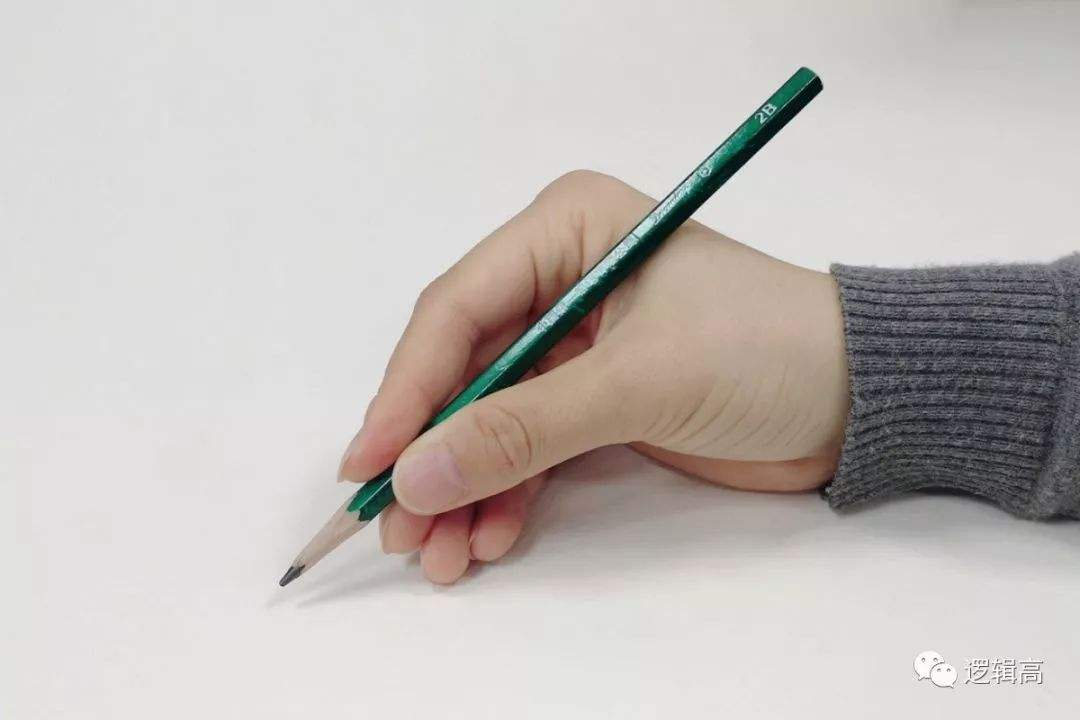no-phone: (273, 141, 852, 591)
